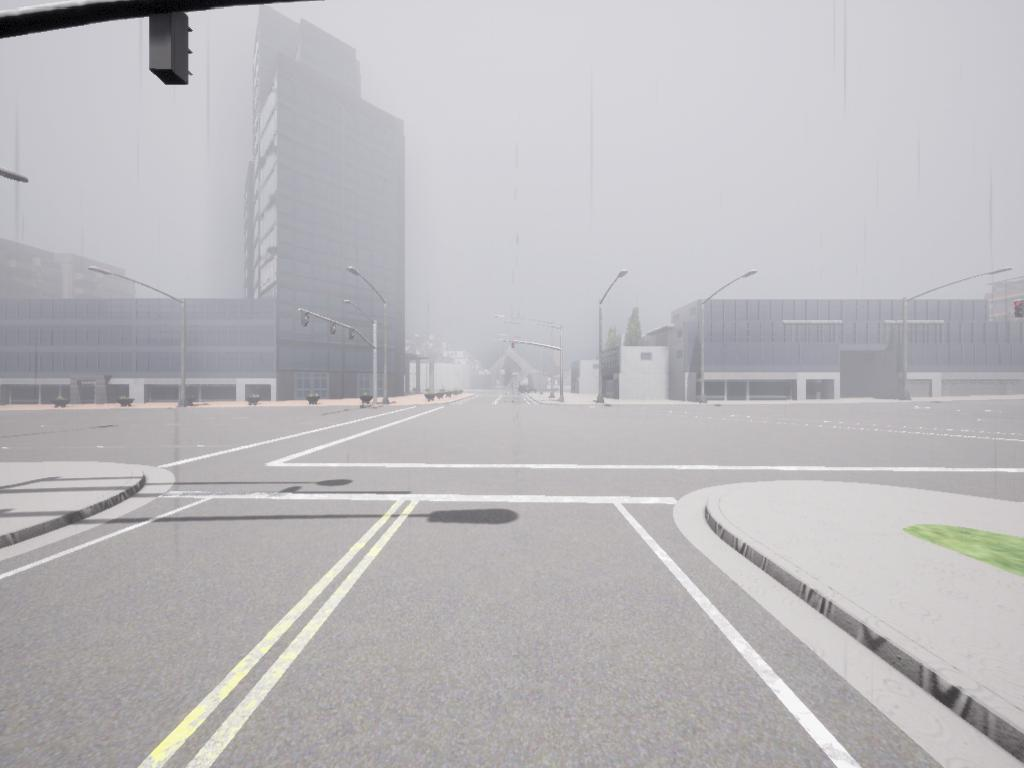traffic_light: (149, 16, 196, 87), (348, 328, 358, 344), (303, 311, 311, 330), (330, 322, 339, 338), (512, 341, 517, 351)
